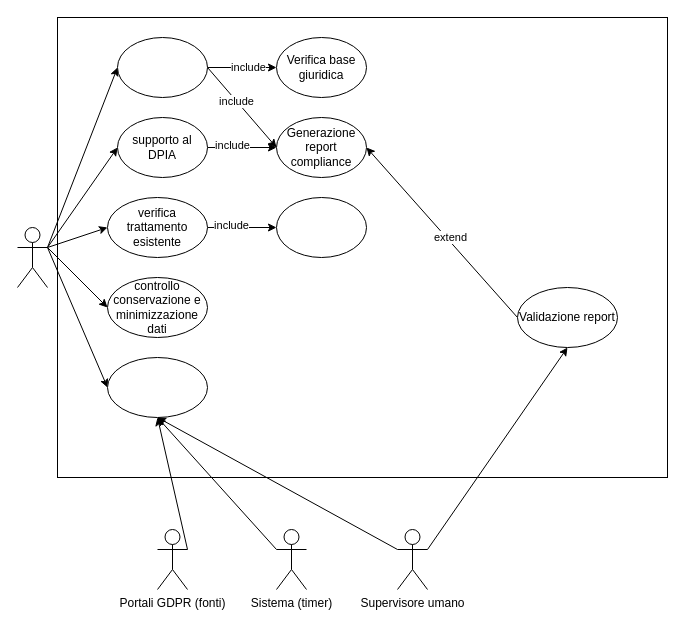
Some shapes in this 685 by 628 pixel diagram are drawn without their labels. Each missing label, with the centre of its shape:
Aggiornamento documenti: pixel 157 387
Caricamento policy aziendali: pixel 321 227
User: pixel 32 257
Validazione nuovo trattamento: pixel 162 67
